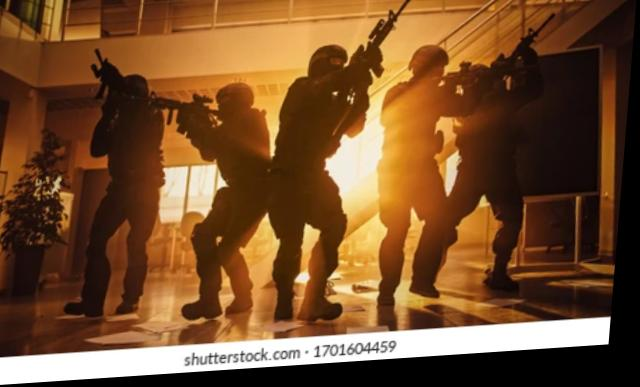other: (267, 45, 373, 326), (66, 62, 176, 325), (173, 77, 282, 322), (443, 59, 544, 301), (373, 46, 466, 304)
